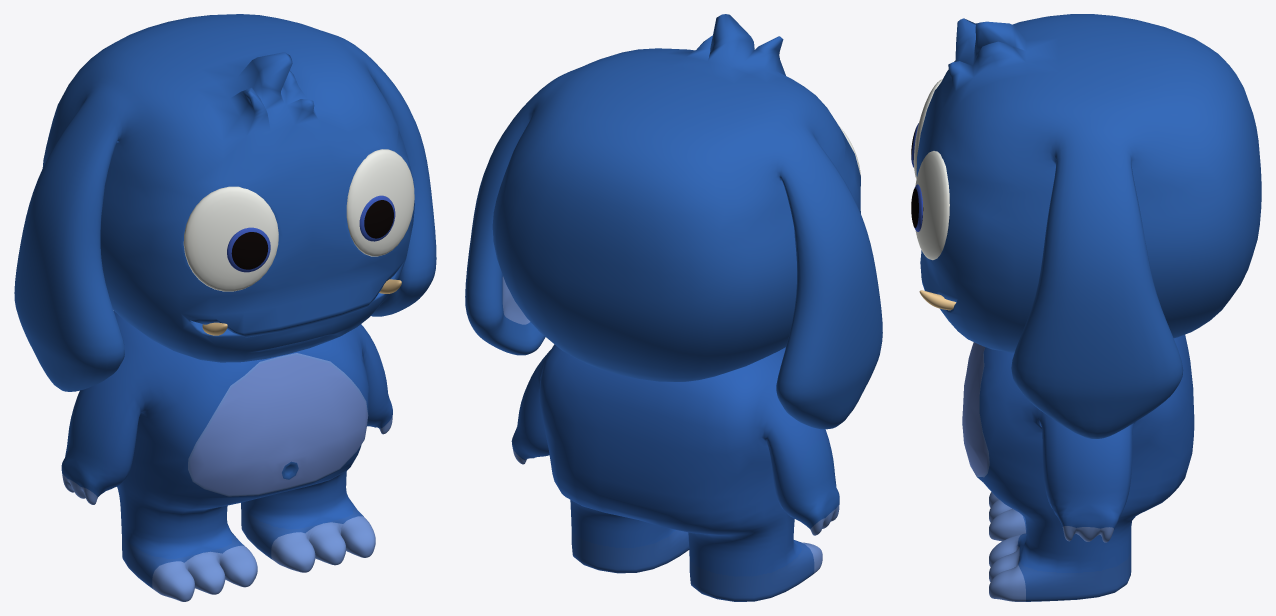
The model's file is enime charecter.glb.
3 renders of one model, left to right at view 1: azimuth 30°, elevation 25°; view 2: azimuth 150°, elevation 25°; view 3: azimuth 270°, elevation 25°, orthographic. The views are drawn at different scales.
Parts seen in each view (by area): view 1: Cube, Cube.001, Sphere; view 2: Cube, Cube.001; view 3: Cube, Cube.001, Sphere.
Part boxes in pixels (bbox=[...]): Cube: bbox=[14, 14, 436, 391]; Cube.001: bbox=[61, 311, 392, 601]; Sphere: bbox=[183, 149, 414, 291]; Cube: bbox=[465, 14, 882, 429]; Cube.001: bbox=[511, 344, 839, 601]; Cube: bbox=[916, 14, 1261, 438]; Cube.001: bbox=[962, 334, 1194, 601]; Sphere: bbox=[911, 79, 949, 260].
Bounding box in the file's own units: 2.92 × 3.91 × 2.33.
5 materials, 5 textured.
